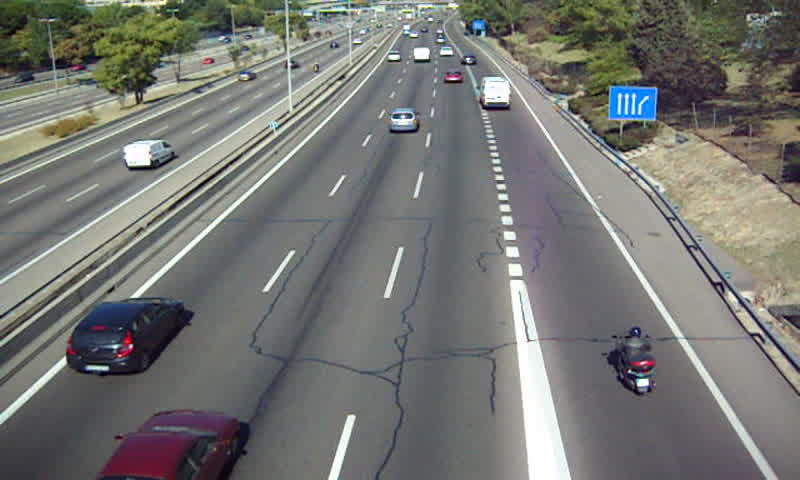car: (100, 410, 240, 480), (66, 298, 183, 374), (386, 108, 419, 135), (441, 68, 463, 84), (460, 52, 478, 66), (440, 45, 454, 58), (388, 50, 401, 63)
motorcycle: (612, 327, 655, 397)
van: (480, 76, 510, 107), (412, 46, 429, 62)
